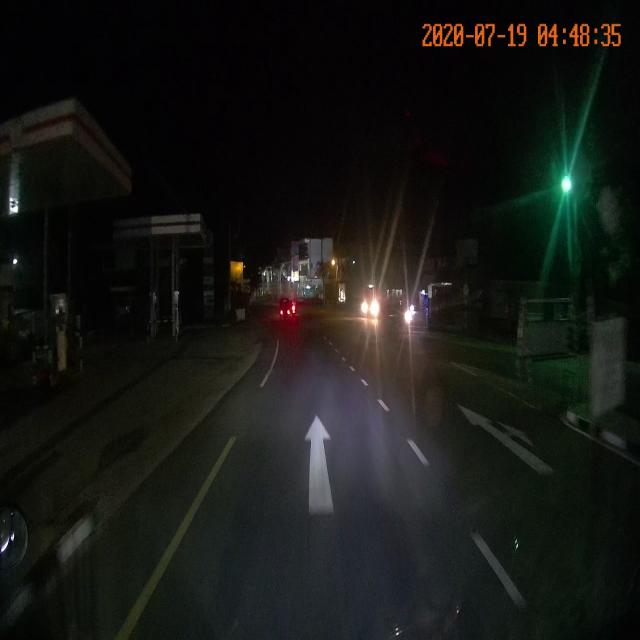Strelka vpered: (304, 414, 334, 518)
Strelka vpered - vpravo: (457, 403, 555, 476)
